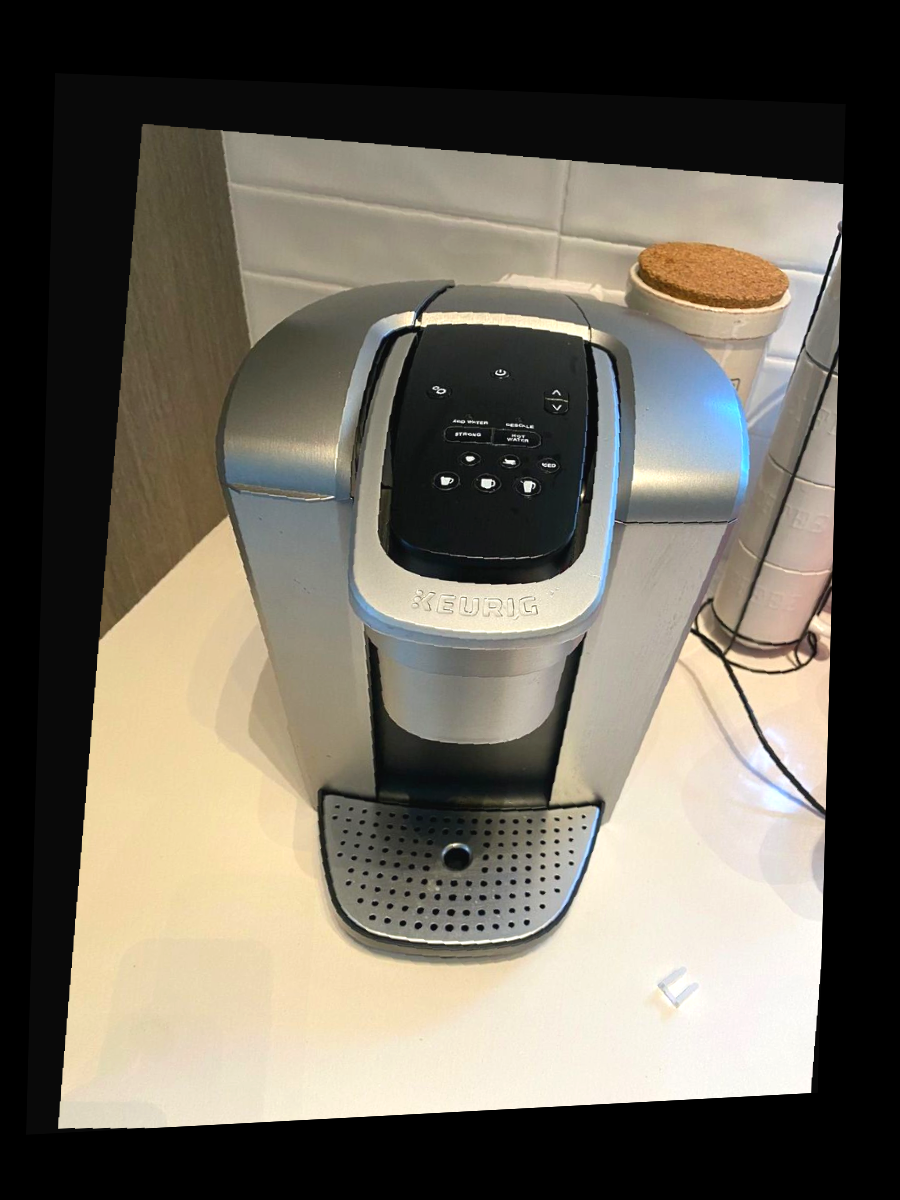10oz: (472, 472, 503, 495)
12oz: (513, 476, 545, 499)
4oz: (458, 449, 483, 466)
6oz: (498, 452, 522, 469)
8oz: (431, 470, 462, 493)
add_water: (443, 406, 494, 427)
coffee_handle: (373, 614, 567, 660)
descale: (494, 408, 546, 429)
hot: (492, 427, 544, 449)
iced: (537, 457, 561, 474)
platform: (438, 838, 475, 875)
power: (489, 365, 515, 383)
strong: (442, 425, 493, 446)
water_handle: (224, 476, 335, 512)
